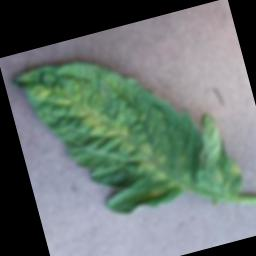Leaf_Mold: (30, 57, 170, 208), (230, 158, 242, 176)
